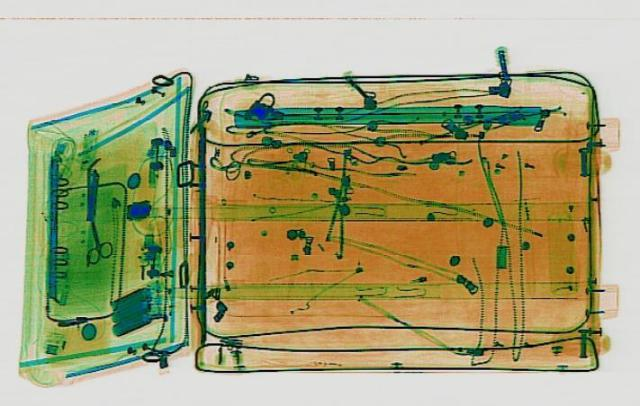Scissors: (74, 216, 116, 262)
